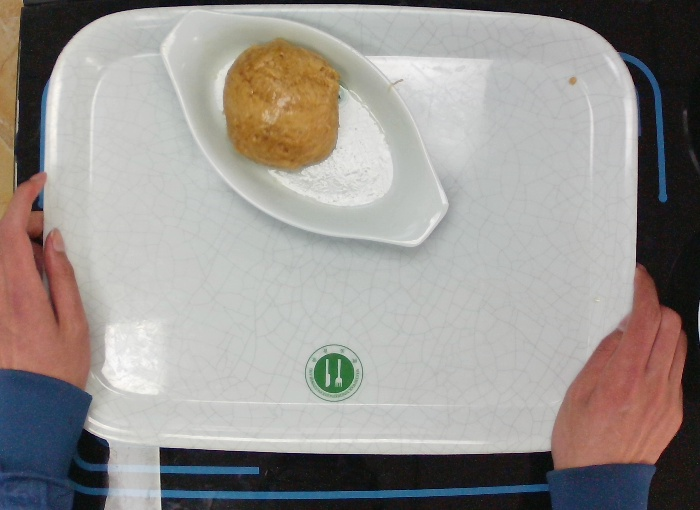JYsf-Yu_Pan: (160, 4, 450, 250)
